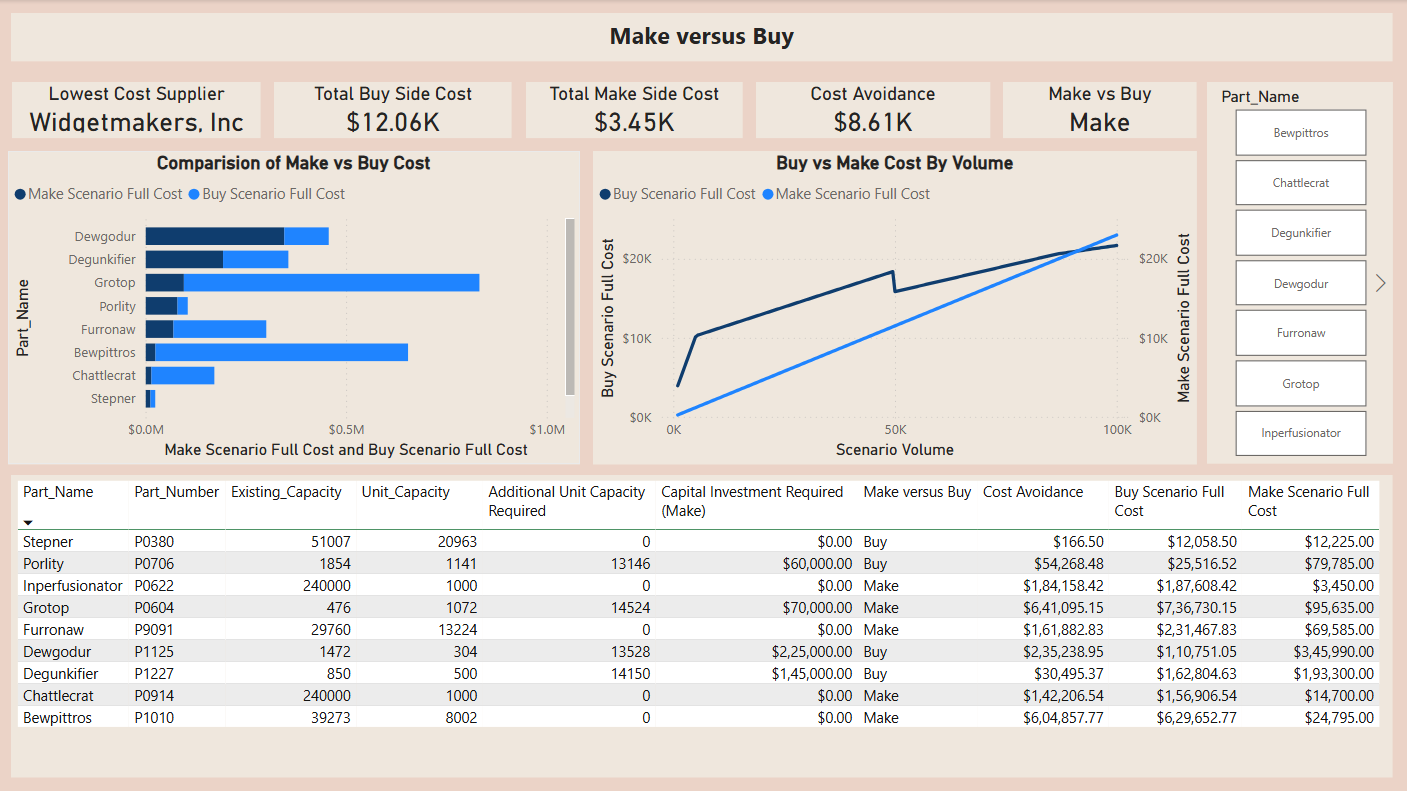

Layout of this report page (visuals, bound fields, positions):
{"tool":"powerbi","page":{"name":"Make versus Buy","canvas":[1280,720],"ordinal":2},"visuals":[{"type":"slicer","fields":{"Values":["Scenario Volume.Scenario Volume"]},"box":[872.1,56.3,224.4,86.3],"z":2},{"type":"textbox","box":[10,11.8,1086.5,44.5],"z":3},{"type":"tableEx","title":"Make vs Buy Decision Summary with Capacity & Cost Comparison","fields":{"Values":["Part_Number (Product_Dimension).Part_Name","Part_Number (Product_Dimension).Part_Number","Machine_Model (Internal_Mfg_Resource_Estimates).Existing_Capacity","Machine_Model (Internal_Mfg_Resource_Estimates).Unit_Capacity","Machine_Model (Internal_Mfg_Resource_Estimates).Additional Unit Capacity Required","Machine_Model (Internal_Mfg_Resource_Estimates).Capital Investment Required (Make)","Scenario Volume.Make versus Buy","Machine_Model (Internal_Mfg_Resource_Estimates).Cost Avoidance","Scenario Volume.Buy Scenario Full Cost","Machine_Model (Internal_Mfg_Resource_Estimates).Make Scenario Full Cost"]},"box":[9.9,432.2,1255.8,274.9],"z":4},{"type":"barChart","title":"Comparision of Make vs Buy Cost","fields":{"Y":["Machine_Model (Internal_Mfg_Resource_Estimates).Make Scenario Full Cost","Scenario Volume.Buy Scenario Full Cost"],"Category":["Part_Number (Product_Dimension).Part_Name"]},"box":[7.7,136.4,443.2,295.8],"z":5},{"type":"card","title":"Lowest Cost Supplier","fields":{"Values":["Min(Supplier (Quotes).Supplier)"]},"box":[10.6,74,175.9,51.9],"z":6},{"type":"card","title":"Total Buy Side Cost","fields":{"Values":["Scenario Volume.Buy Scenario Full Cost"]},"box":[186.4,74,175.9,51.9],"z":7},{"type":"card","title":"Cost Avoidance","fields":{"Values":["Machine_Model (Internal_Mfg_Resource_Estimates).Cost Avoidance"]},"box":[538.1,74,175.9,51.9],"z":8},{"type":"card","title":"Total Make Side Cost","fields":{"Values":["Machine_Model (Internal_Mfg_Resource_Estimates).Make Scenario Full Cost"]},"box":[362.7,74.4,175.9,51.9],"z":9},{"type":"card","title":"Make vs Buy","fields":{"Values":["Scenario Volume.Make versus Buy"]},"box":[695.7,74,175.9,51.9],"z":10},{"type":"lineChart","title":"Buy vs Make Cost  By Volume","fields":{"Y2":["Machine_Model (Internal_Mfg_Resource_Estimates).Make Scenario Full Cost"],"Y":["Scenario Volume.Buy Scenario Full Cost"],"Category":["Scenario Volume.Scenario Volume"]},"box":[456.9,142.6,353.4,279.8],"z":11},{"type":"slicer","fields":{"Values":["Part_Number (Product_Dimension).Part_Name"]},"box":[1096.5,0,169,432.4],"z":12}]}

Visuals, with their boxes in screenshot pixels (x1, y1, x2, y2), scaled from the page's 1280x720 canvas onto the 1407x791 screenshot:
slicer - Scenario Volume.Scenario Volume: (x1=959, y1=62, x2=1205, y2=157)
textbox: (x1=11, y1=13, x2=1205, y2=62)
"Make vs Buy Decision Summary with Capacity & Cost Comparison" tableEx: (x1=11, y1=475, x2=1391, y2=777)
"Comparision of Make vs Buy Cost" barChart: (x1=8, y1=150, x2=496, y2=475)
"Lowest Cost Supplier" card: (x1=12, y1=81, x2=205, y2=138)
"Total Buy Side Cost" card: (x1=205, y1=81, x2=398, y2=138)
"Cost Avoidance" card: (x1=591, y1=81, x2=785, y2=138)
"Total Make Side Cost" card: (x1=399, y1=82, x2=592, y2=139)
"Make vs Buy" card: (x1=765, y1=81, x2=958, y2=138)
"Buy vs Make Cost  By Volume" lineChart: (x1=502, y1=157, x2=891, y2=464)
slicer - Part_Number (Product_Dimension).Part_Name: (x1=1205, y1=0, x2=1391, y2=475)
